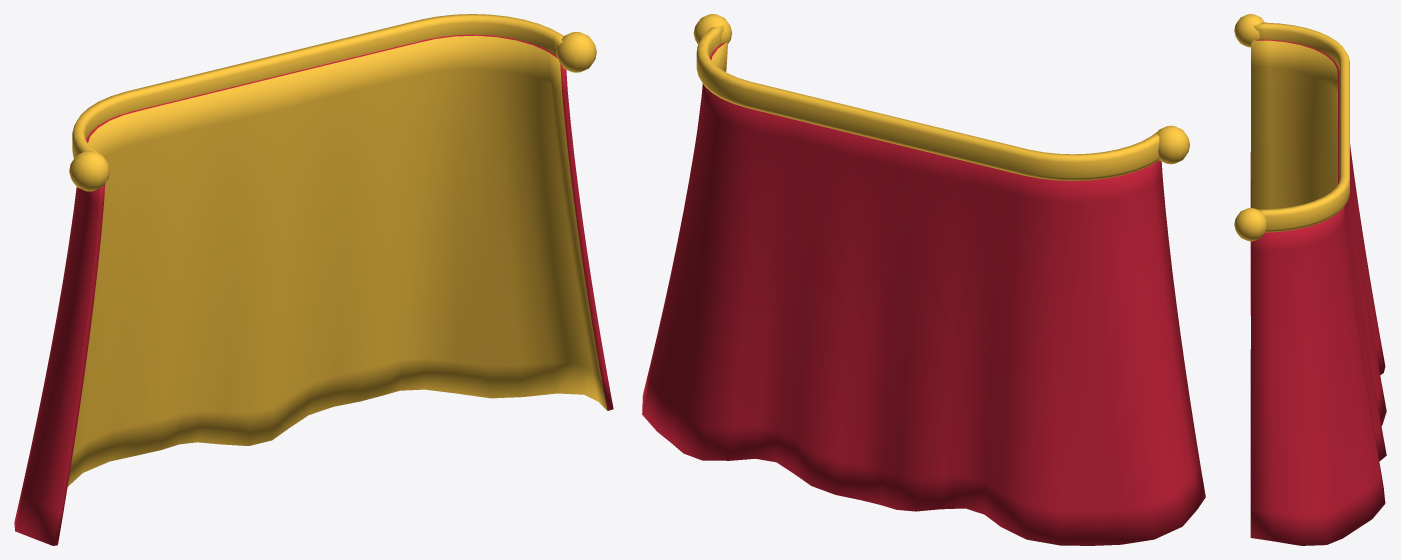
Rendered from cape.glb.
The picture shows the model from 3 angles, left to right: view 1: azimuth 30°, elevation 25°; view 2: azimuth 150°, elevation 25°; view 3: azimuth 270°, elevation 25°; orthographic projection. The views are drawn at different scales.
Visible parts, largest first — view 1: cape, collar, clasp.001, clasp; view 2: cape, collar, clasp.001, clasp; view 3: cape, collar, clasp, clasp.001.
Boxes of the visible parts, x1,y1,x2,y2 form: cape: (14, 34, 613, 545); collar: (72, 14, 563, 158); clasp.001: (69, 150, 109, 191); clasp: (556, 32, 596, 72); cape: (642, 42, 1205, 545); collar: (696, 25, 1159, 180); clasp.001: (1157, 125, 1189, 164); clasp: (693, 14, 732, 44); cape: (1250, 39, 1386, 545); collar: (1253, 22, 1349, 232); clasp: (1234, 208, 1267, 241); clasp.001: (1234, 14, 1264, 47).
Size of the model in its own units: 1.61 by 1.09 by 0.4554.
